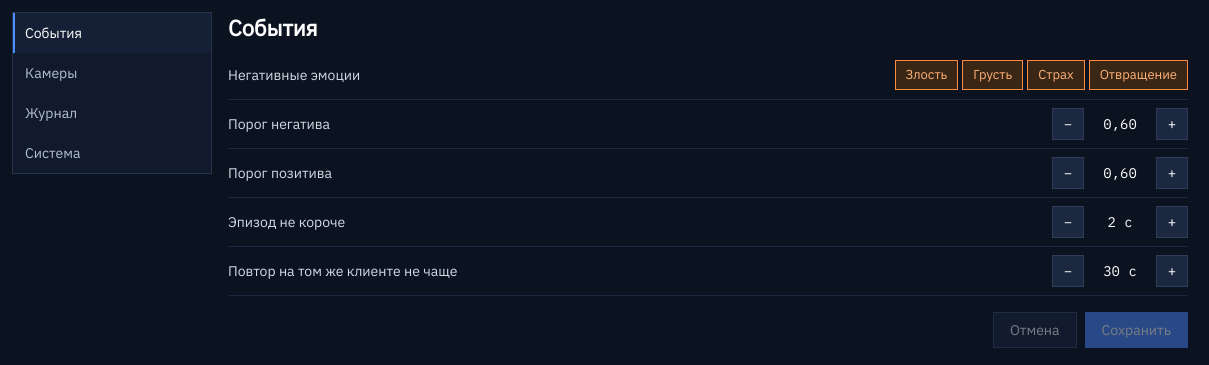
Settings unsaved guard › confirming leaves without saving
Expected: the heading "События" is shown, [228,12,318,44]
Click the button named "Увеличить".
click(1172, 124)  # box [1156,108,1188,140]
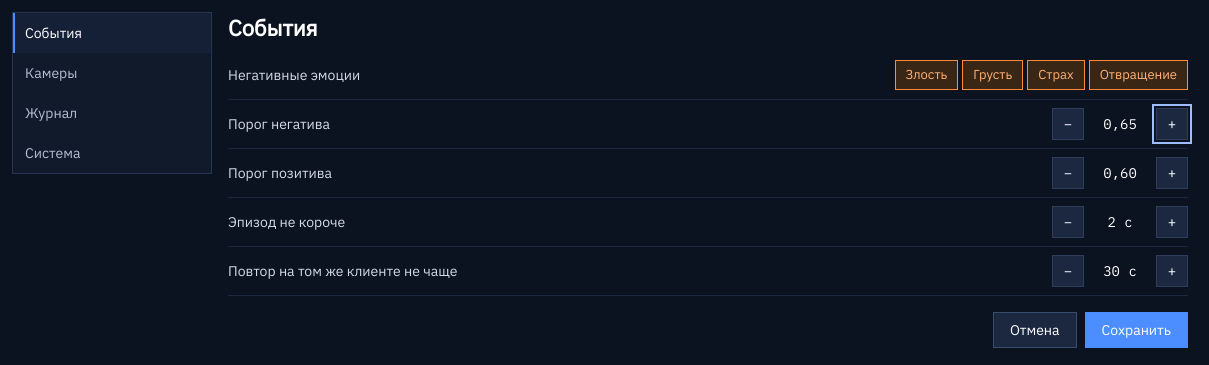
Click the link "Журнал".
click(51, 113)  # box [25,104,77,122]
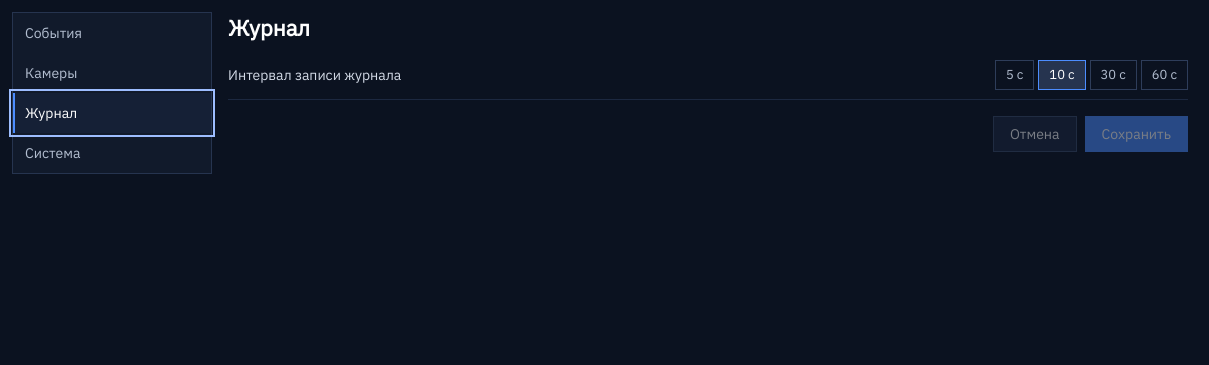
Result: the heading "Журнал" is shown at [228,12,310,44]
